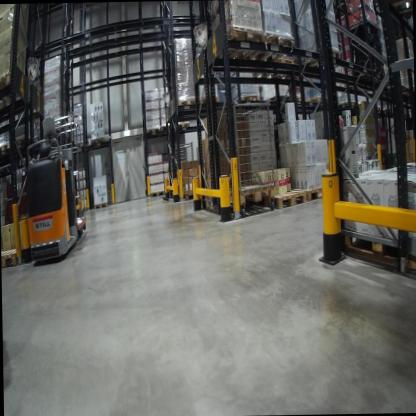pallet: (344, 222, 416, 276), (247, 31, 295, 77), (210, 28, 267, 65), (216, 175, 275, 207), (256, 185, 307, 212), (0, 69, 25, 115), (295, 49, 346, 69), (268, 55, 294, 84), (1, 240, 25, 270), (303, 181, 334, 200), (195, 95, 224, 115), (8, 130, 33, 147), (307, 93, 334, 108), (174, 96, 198, 112), (236, 92, 263, 106), (0, 137, 13, 165), (88, 132, 107, 150), (270, 92, 295, 105), (176, 188, 204, 199), (174, 118, 192, 134), (142, 125, 160, 137), (94, 200, 109, 213), (160, 121, 174, 134), (290, 92, 303, 106), (341, 100, 360, 107), (147, 191, 165, 197)
pallet_truck: (17, 116, 91, 264)
